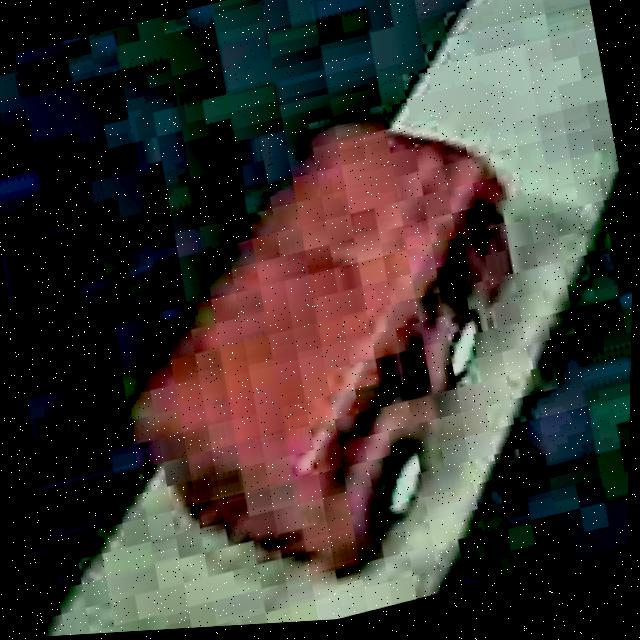bus: (85, 76, 579, 629)
